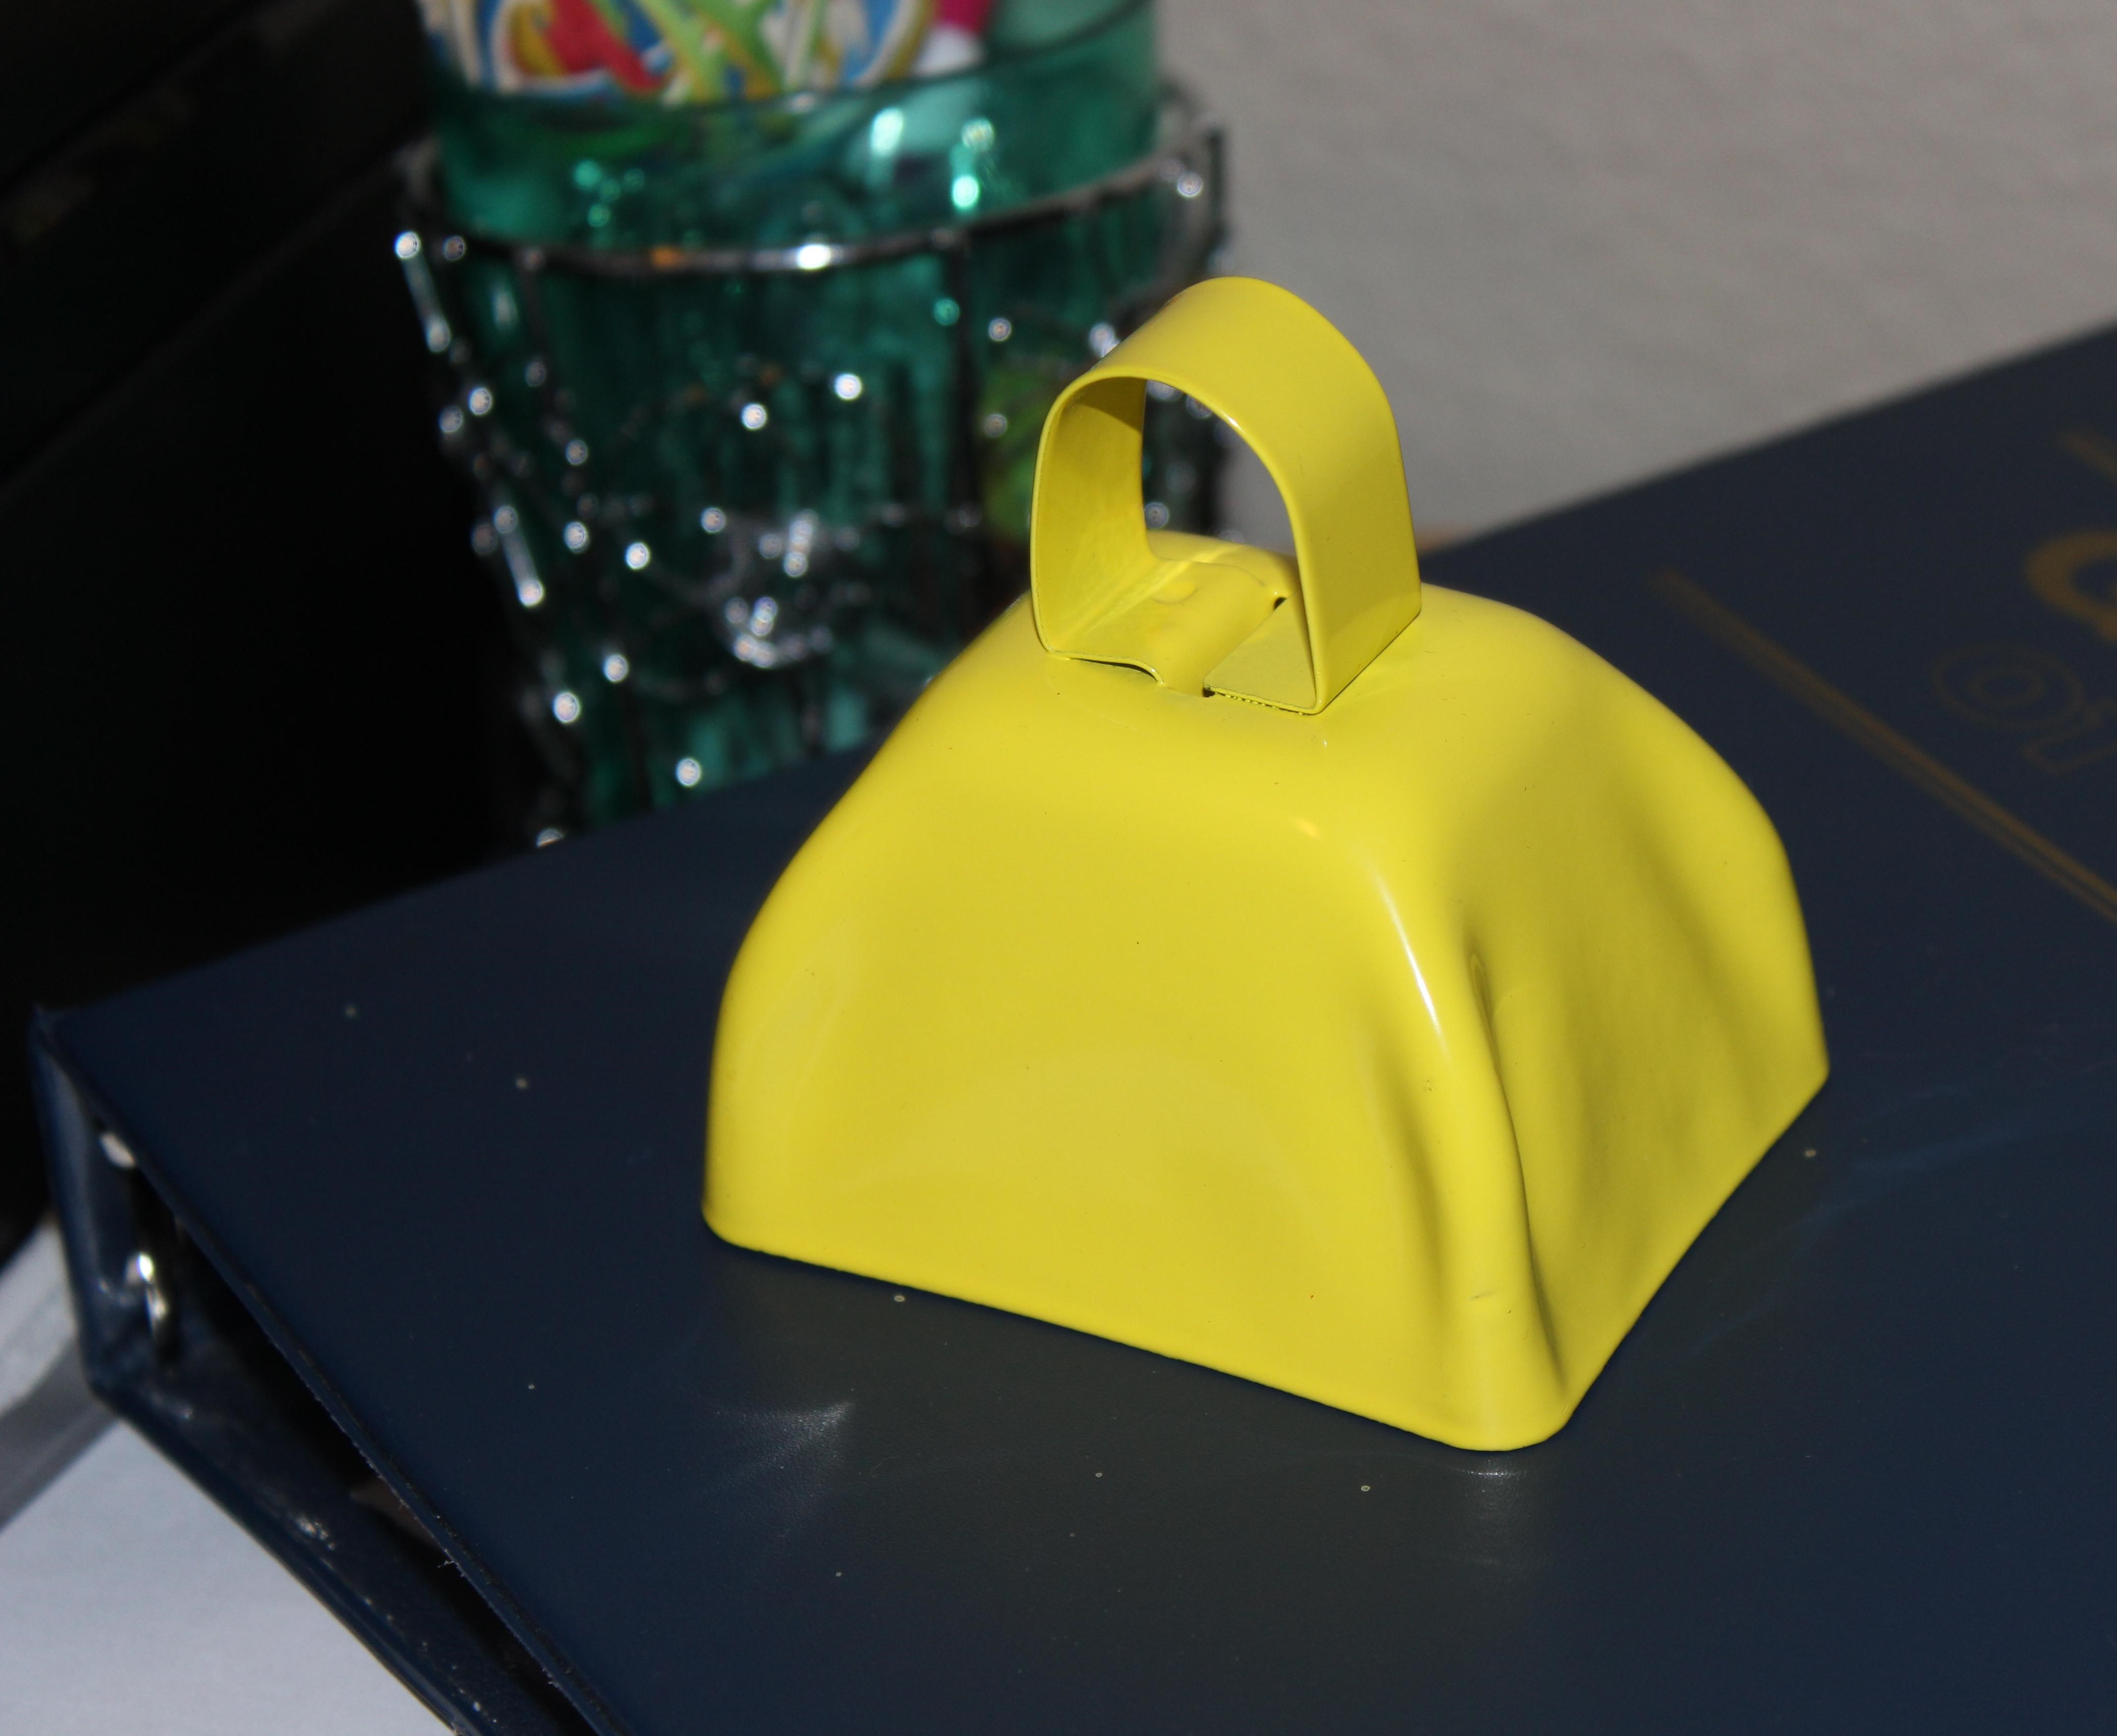cowbell: (684, 244, 1934, 1494)
